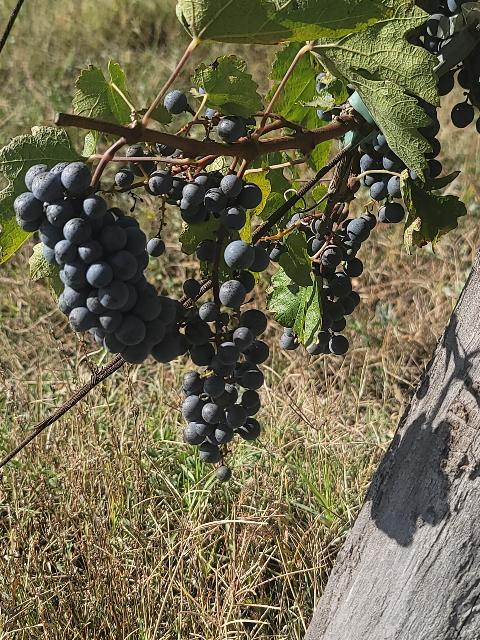grapes: (151, 174, 270, 464), (14, 161, 180, 364), (308, 214, 376, 355)
